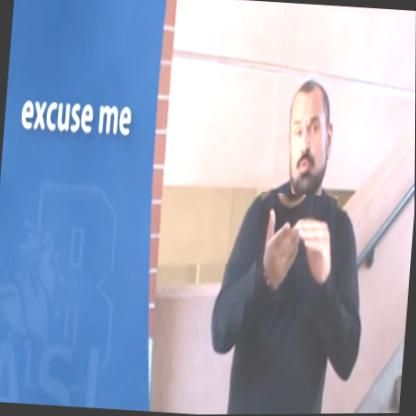ExcuseMe: (254, 192, 338, 305)
